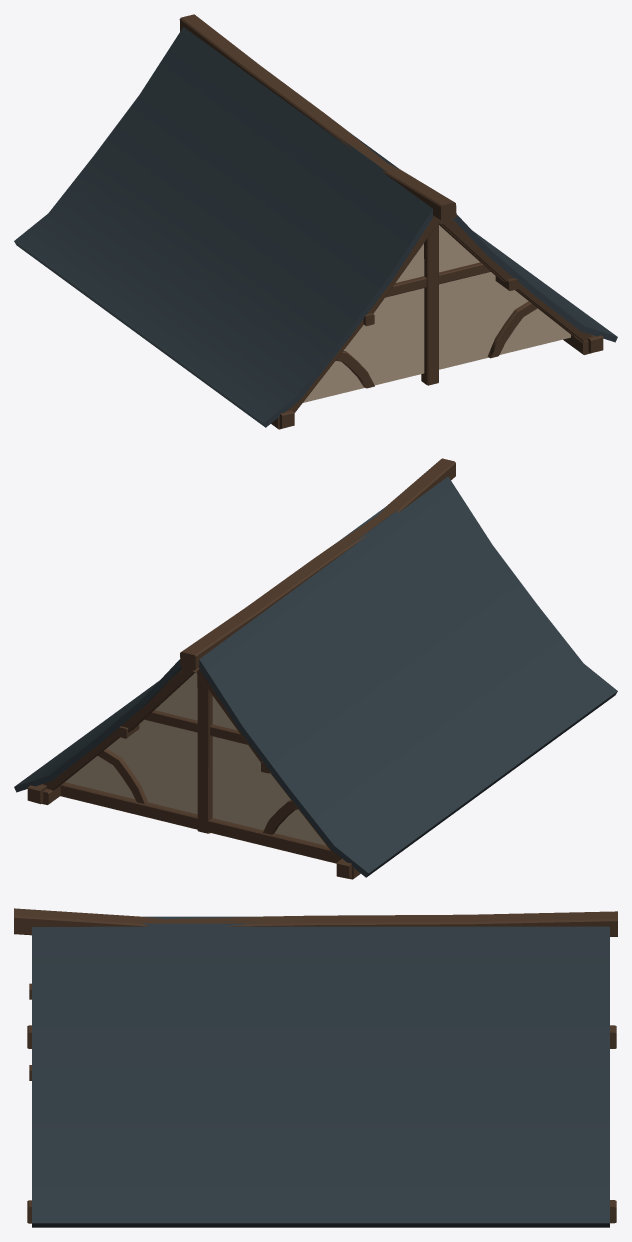
The model's file is Roof4.fbx.
The picture shows the model from 3 angles, top to bottom: view 1: azimuth 30°, elevation 25°; view 2: azimuth 150°, elevation 25°; view 3: azimuth 270°, elevation 25°; orthographic projection. The views are drawn at different scales.
Parts seen in each view (by area): view 1: Cube.049; view 2: Cube.049; view 3: Cube.049.
Boxes of the visible parts, left/top/right/bottom form: Cube.049: left=14, top=14, right=617, bottom=429; Cube.049: left=14, top=458, right=617, bottom=879; Cube.049: left=14, top=908, right=617, bottom=1227.
Bounding box in the file's own units: 7.4 × 3.85 × 9.41.
